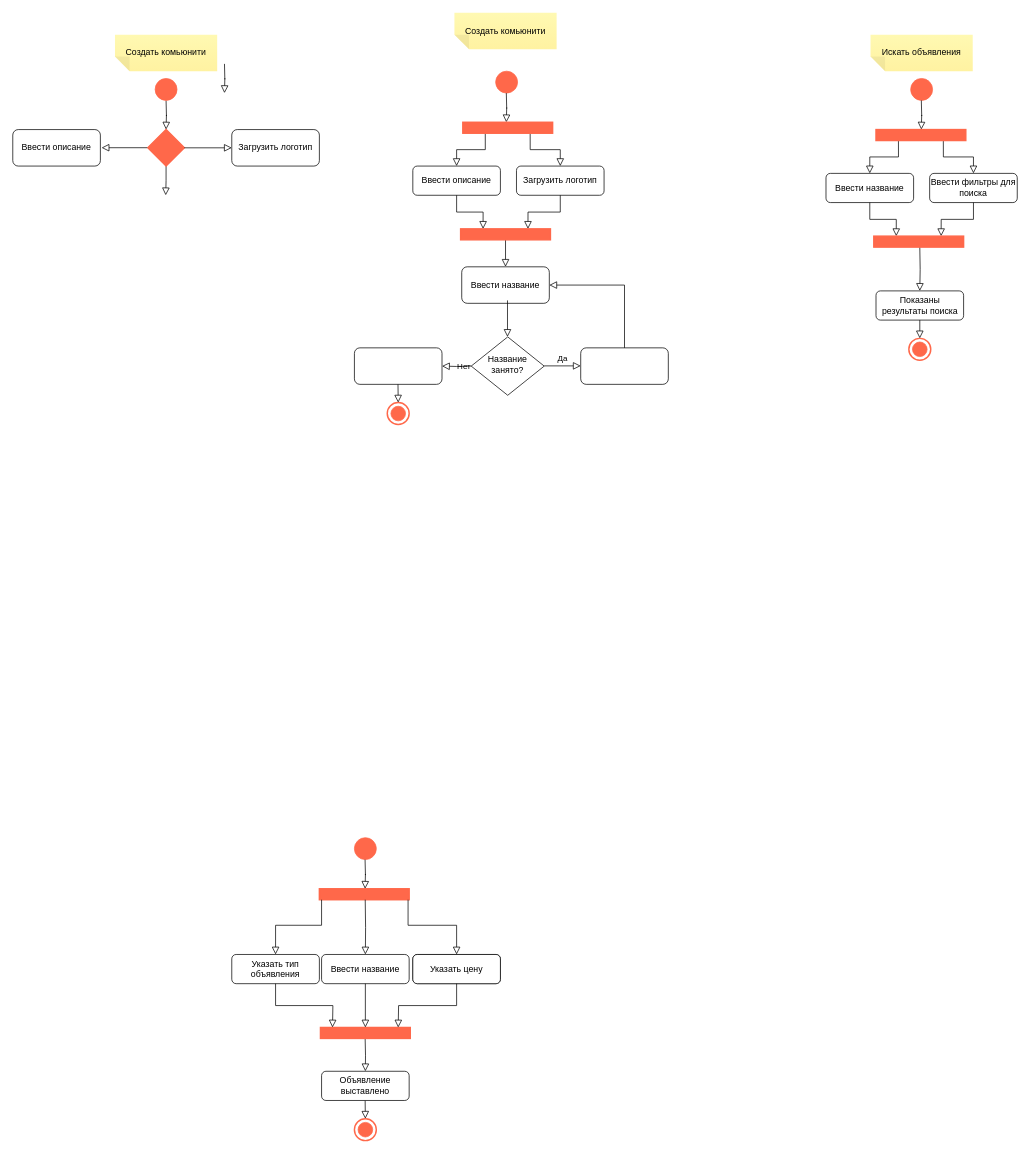
Some shapes in this 1030 by 1153 pixel diagram are drawn without their labels. Here are the shapes that lost their labels. From the top down, the centre of each, then its label:
At pixel 398 365: "Комьюнити создано".
At pixel 624 365: "Выберите другое название".
